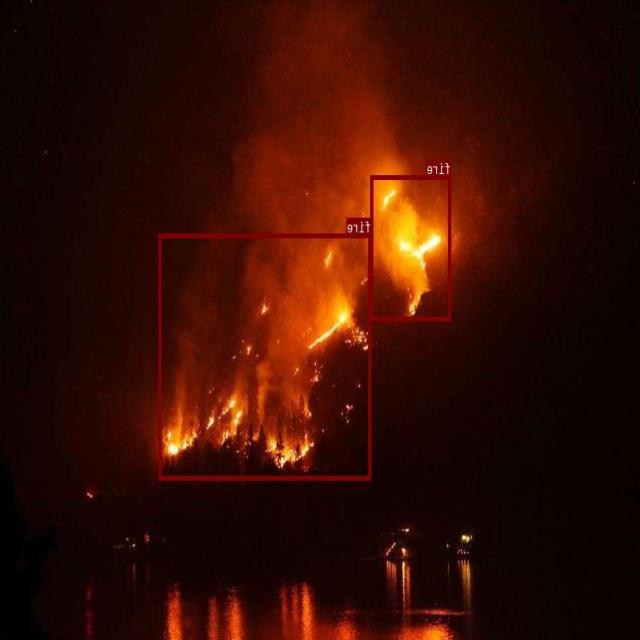fire: (159, 232, 372, 480), (371, 174, 452, 320)
